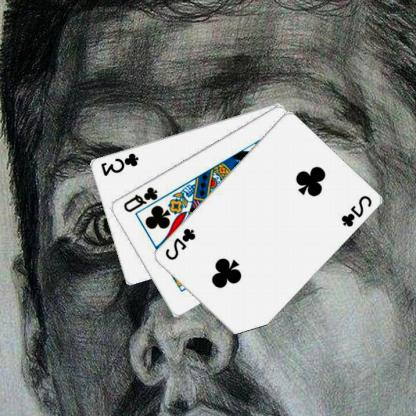2C: (164, 226, 198, 262), (340, 193, 374, 228)
3C: (100, 151, 142, 177)
QC: (122, 184, 160, 214)
